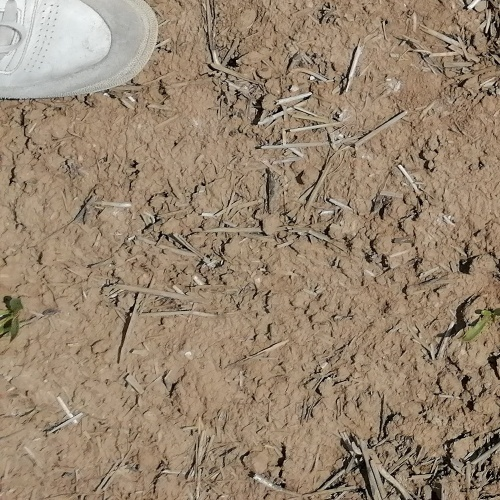beet: (460, 309, 500, 341), (0, 296, 24, 341)
